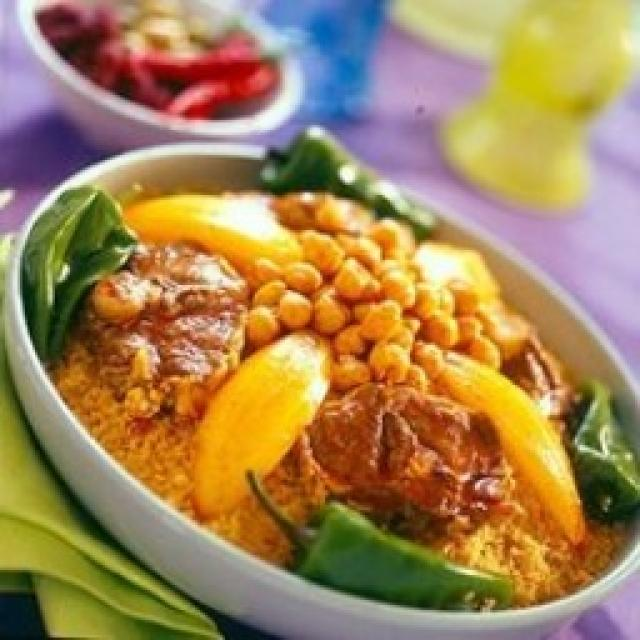Couscous: (50, 131, 621, 608)
